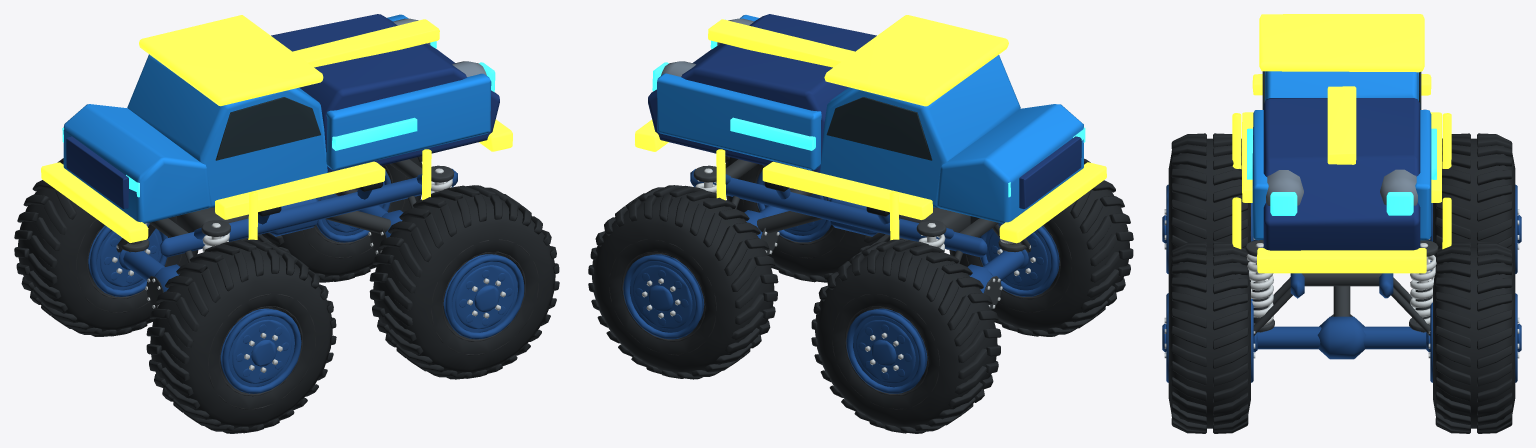
The model's file is HyperFlash.fbx.
3 views of the same model, side by side, from view 1: azimuth 30°, elevation 25°; view 2: azimuth 150°, elevation 25°; view 3: azimuth 270°, elevation 25° (orthographic).
Parts seen in each view (by area): view 1: HyperFlash_LOD0_sprung_body_Geometry, HyperFlash_LOD0_FL_Spin_Geometry, HyperFlash_LOD0_RL_Spin_Geometry, HyperFlash_LOD0_FR_Spin_Geometry, HyperFlash_LOD0_RR_Spin_Geometry, HyperFlash_LOD0_FRONT_axle_Geometry, HyperFlash_LOD0_Root_Geometry, HyperFlash_LOD0_REAR_axle_Geometry, HyperFlash_LOD0_FRONT_shock_-1_Geometry, HyperFlash_LOD0_REAR_shock_-1_Geometry; view 2: HyperFlash_LOD0_sprung_body_Geometry, HyperFlash_LOD0_FR_Spin_Geometry, HyperFlash_LOD0_RR_Spin_Geometry, HyperFlash_LOD0_FL_Spin_Geometry, HyperFlash_LOD0_RL_Spin_Geometry, HyperFlash_LOD0_FRONT_axle_Geometry, HyperFlash_LOD0_Root_Geometry, HyperFlash_LOD0_REAR_axle_Geometry, HyperFlash_LOD0_FRONT_shock_1_Geometry, HyperFlash_LOD0_REAR_shock_1_Geometry; view 3: HyperFlash_LOD0_sprung_body_Geometry, HyperFlash_LOD0_RL_Spin_Geometry, HyperFlash_LOD0_RR_Spin_Geometry, HyperFlash_LOD0_FL_Spin_Geometry, HyperFlash_LOD0_FR_Spin_Geometry, HyperFlash_LOD0_REAR_axle_Geometry, HyperFlash_LOD0_Root_Geometry, HyperFlash_LOD0_REAR_shock_-1_Geometry, HyperFlash_LOD0_REAR_shock_1_Geometry.
Part boxes in pixels (x1,y1,x2,y2): HyperFlash_LOD0_sprung_body_Geometry: (41, 14, 512, 257); HyperFlash_LOD0_FL_Spin_Geometry: (146, 239, 336, 433); HyperFlash_LOD0_RL_Spin_Geometry: (369, 185, 559, 379); HyperFlash_LOD0_FR_Spin_Geometry: (14, 158, 198, 336); HyperFlash_LOD0_RR_Spin_Geometry: (257, 156, 422, 282); HyperFlash_LOD0_FRONT_axle_Geometry: (123, 251, 179, 309); HyperFlash_LOD0_Root_Geometry: (116, 165, 416, 262); HyperFlash_LOD0_REAR_axle_Geometry: (358, 205, 403, 254); HyperFlash_LOD0_FRONT_shock_-1_Geometry: (201, 220, 230, 251); HyperFlash_LOD0_REAR_shock_-1_Geometry: (431, 165, 454, 193); HyperFlash_LOD0_sprung_body_Geometry: (635, 14, 1106, 257); HyperFlash_LOD0_FR_Spin_Geometry: (811, 239, 1001, 433); HyperFlash_LOD0_RR_Spin_Geometry: (588, 185, 778, 379); HyperFlash_LOD0_FL_Spin_Geometry: (946, 158, 1133, 336); HyperFlash_LOD0_RL_Spin_Geometry: (725, 156, 890, 282); HyperFlash_LOD0_FRONT_axle_Geometry: (968, 251, 1024, 309); HyperFlash_LOD0_Root_Geometry: (715, 165, 1031, 263); HyperFlash_LOD0_REAR_axle_Geometry: (744, 206, 789, 255); HyperFlash_LOD0_FRONT_shock_1_Geometry: (916, 220, 946, 250); HyperFlash_LOD0_REAR_shock_1_Geometry: (693, 165, 716, 193); HyperFlash_LOD0_sprung_body_Geometry: (1232, 14, 1451, 298); HyperFlash_LOD0_RL_Spin_Geometry: (1162, 242, 1257, 433); HyperFlash_LOD0_RR_Spin_Geometry: (1426, 242, 1521, 433); HyperFlash_LOD0_FL_Spin_Geometry: (1162, 133, 1257, 276); HyperFlash_LOD0_FR_Spin_Geometry: (1426, 133, 1521, 275); HyperFlash_LOD0_REAR_axle_Geometry: (1257, 314, 1426, 359); HyperFlash_LOD0_Root_Geometry: (1253, 277, 1430, 335); HyperFlash_LOD0_REAR_shock_-1_Geometry: (1245, 240, 1274, 331); HyperFlash_LOD0_REAR_shock_1_Geometry: (1409, 240, 1438, 331).
Bounding box in the file's own units: 527 × 388 × 414.
